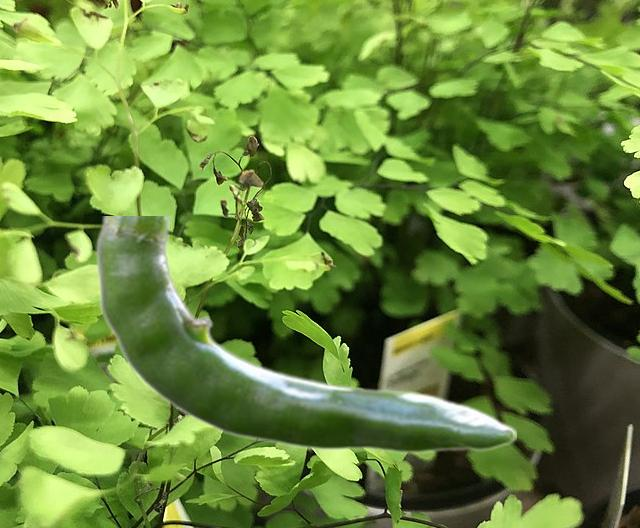green_chili: (95, 216, 515, 453)
